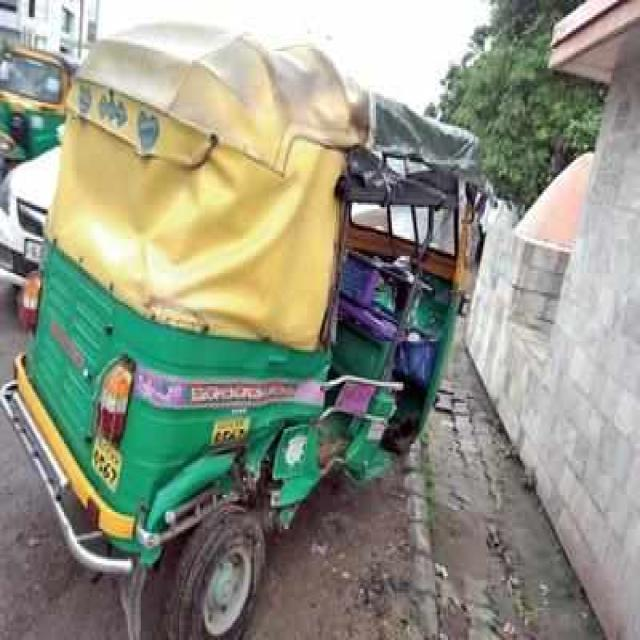accident: (2, 28, 487, 640)
autorickshaw: (0, 47, 82, 179)
car: (0, 139, 62, 333)
